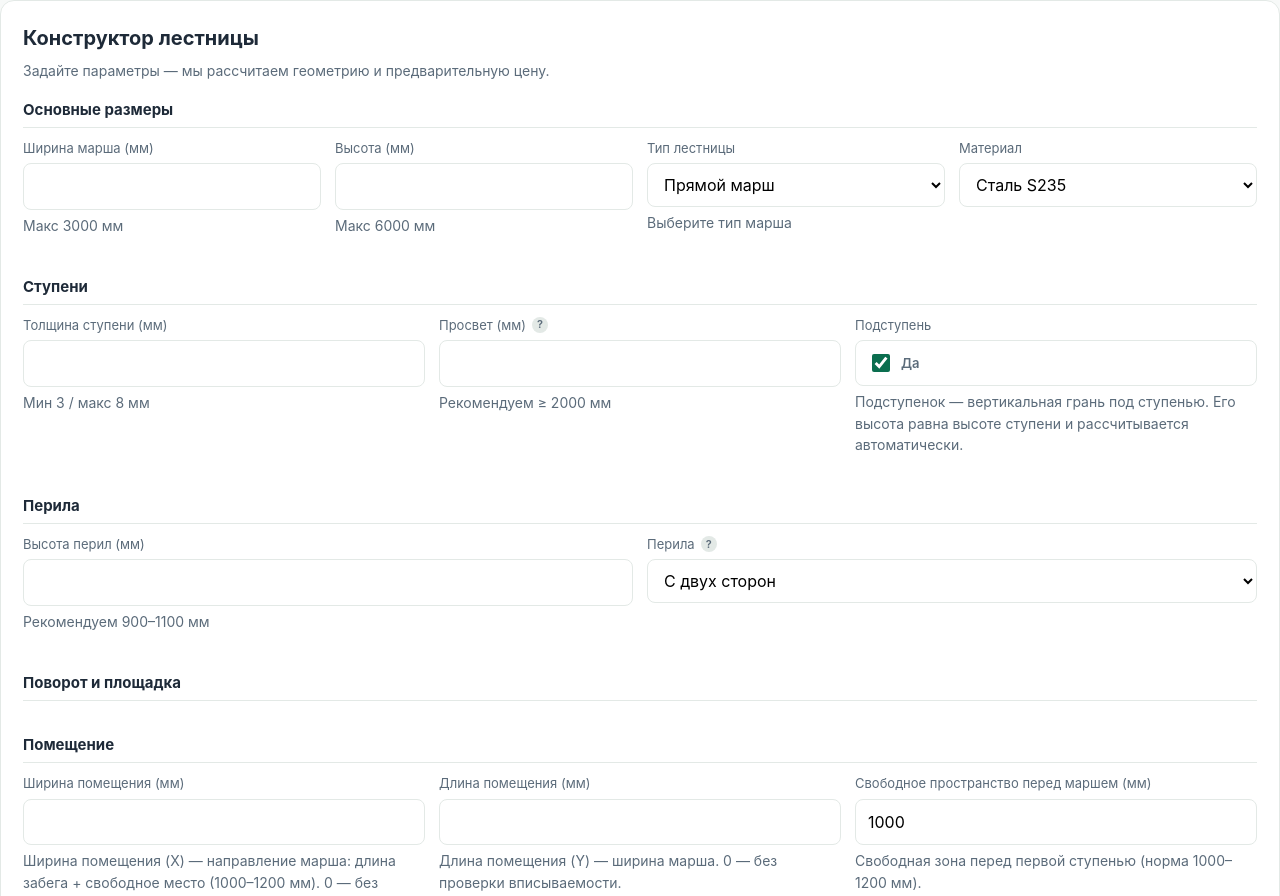
it: Constructor › валидация учитывает пределы материала
Select "Алюминий 5083" in the dropdown labelled "Материал": (1108, 185) 959,163 -> 1257,207
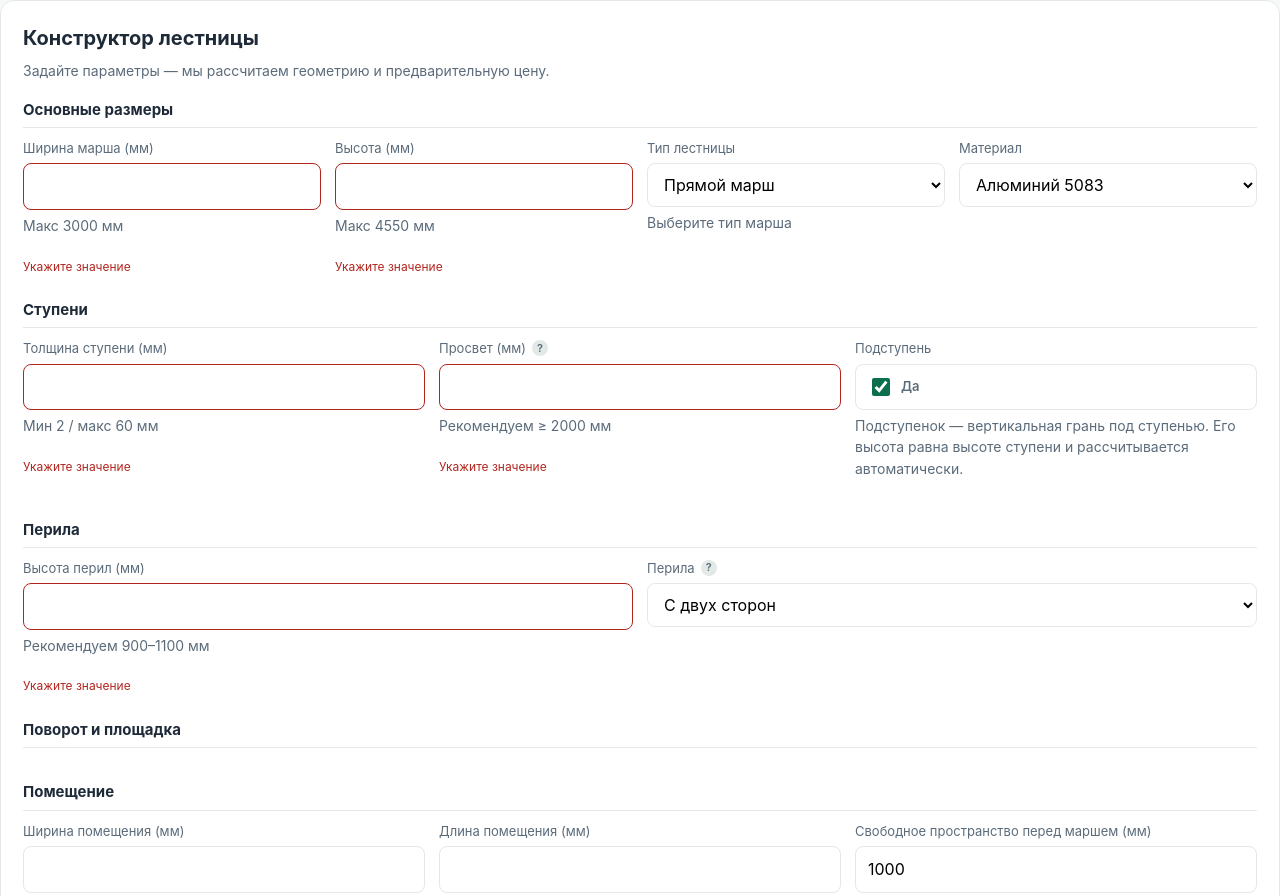
In the field labelled "Высота (мм)": (484, 186) 335,163 -> 633,210, type "5000"
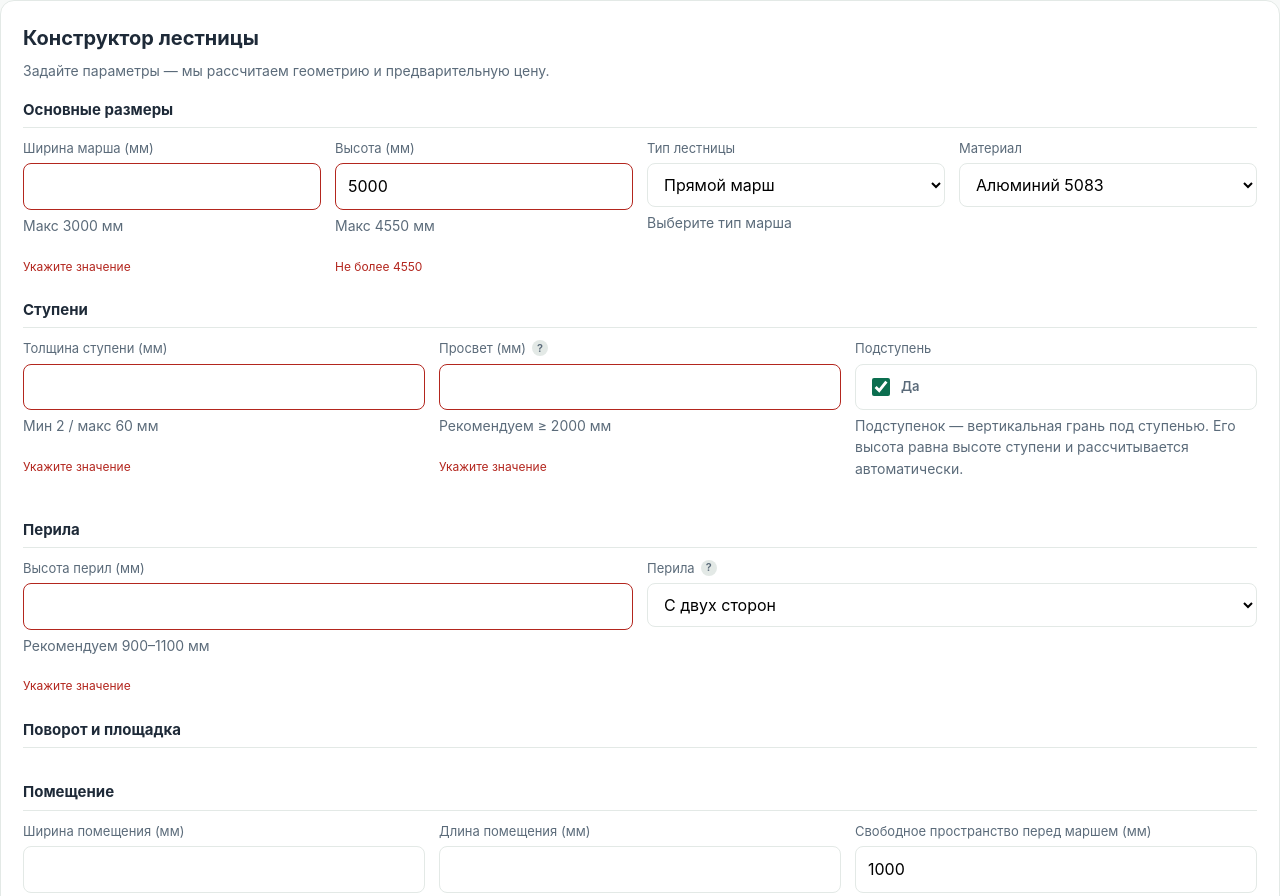
Result: the text "Не более 4550" is shown at 335,259 -> 422,274
